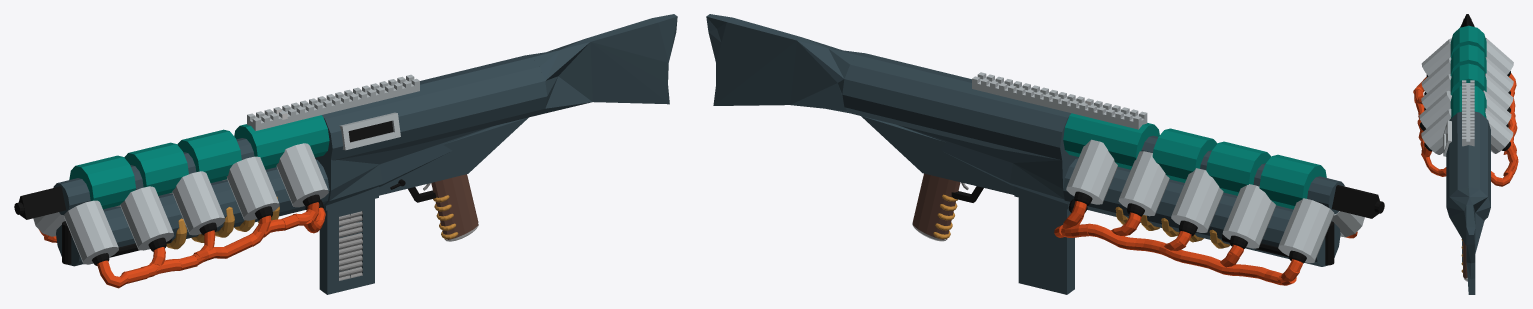
3 views of the same model, side by side, from view 1: azimuth 30°, elevation 25°; view 2: azimuth 150°, elevation 25°; view 3: azimuth 270°, elevation 25° (orthographic). The views are drawn at different scales.
Parts seen in each view (by area): view 1: node_MeshObject-1886359552-PolyPaper21, node_MeshObject1264449536-PolyPaper15; view 2: node_MeshObject-1886359552-PolyPaper21, node_MeshObject1264449536-PolyPaper15; view 3: node_MeshObject-1886359552-PolyPaper21, node_MeshObject1264449536-PolyPaper15.
Part boxes in pixels (left/top/right/bottom): node_MeshObject-1886359552-PolyPaper21: left=14, top=14, right=677, bottom=294; node_MeshObject1264449536-PolyPaper15: left=39, top=143, right=328, bottom=288; node_MeshObject-1886359552-PolyPaper21: left=706, top=14, right=1384, bottom=294; node_MeshObject1264449536-PolyPaper15: left=1054, top=139, right=1364, bottom=285; node_MeshObject-1886359552-PolyPaper21: left=1418, top=14, right=1513, bottom=294; node_MeshObject1264449536-PolyPaper15: left=1413, top=38, right=1518, bottom=186.
Bounding box in the file's own units: 2.5 × 0.6902 × 0.4686.
